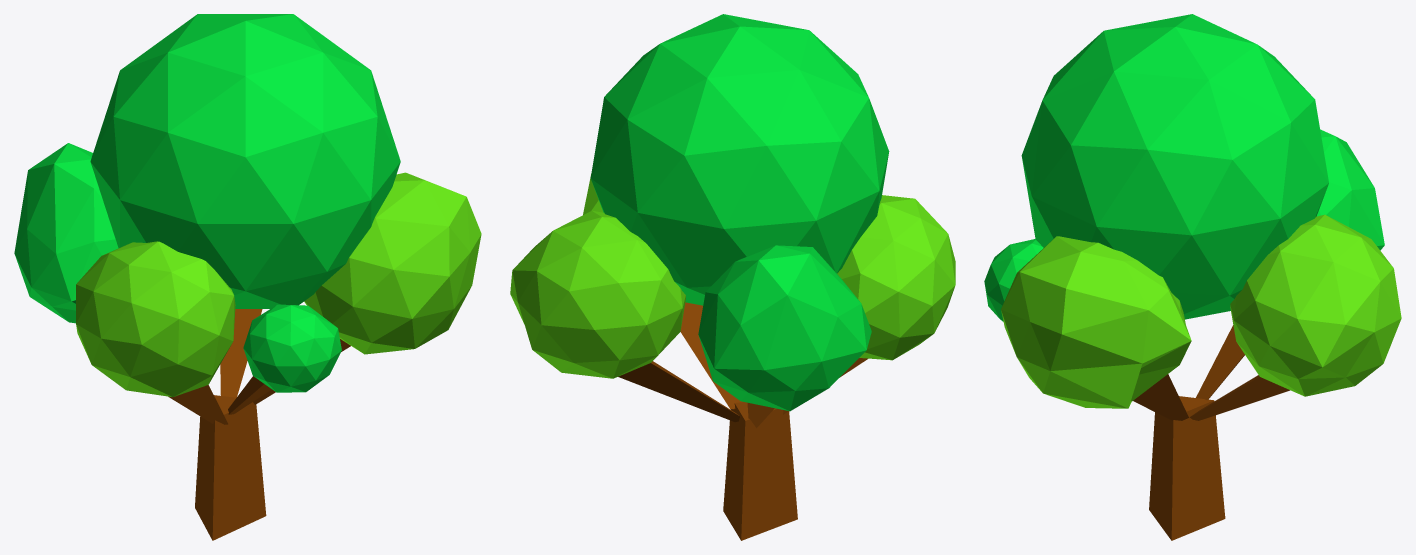
The model's file is drvo 2.fbx.
3 renders of one model, left to right at view 1: azimuth 30°, elevation 25°; view 2: azimuth 150°, elevation 25°; view 3: azimuth 270°, elevation 25°, orthographic. The views are drawn at different scales.
Parts seen in each view (by area): view 1: Icosphere.003; view 2: Icosphere.003; view 3: Icosphere.003.
Boxes of the visible parts, box(x1,y1,x2,y2) form: Icosphere.003: box(14, 14, 481, 540); Icosphere.003: box(510, 14, 955, 540); Icosphere.003: box(984, 14, 1401, 540).
Bounding box in the file's own units: 1208 × 1590 × 1189.
